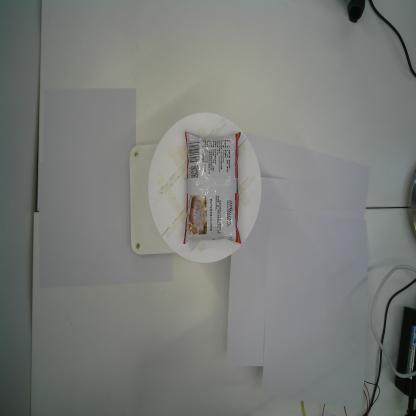Seasoner: (182, 127, 243, 246)
